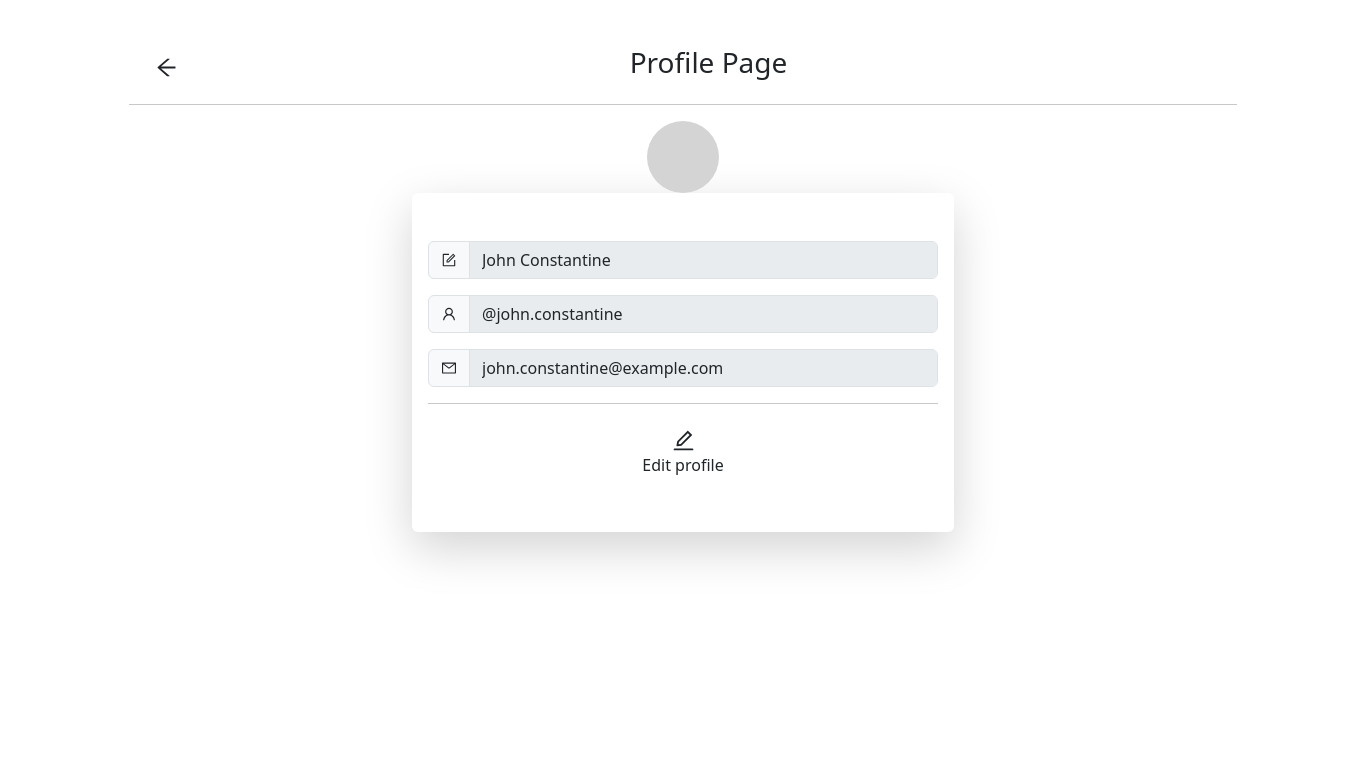
Test: Profile Page › test if is not possible to leave all fields empty
Click the button with test id "edit-profile-button" at [683, 452], box x1=629 y1=420 x2=737 y2=484
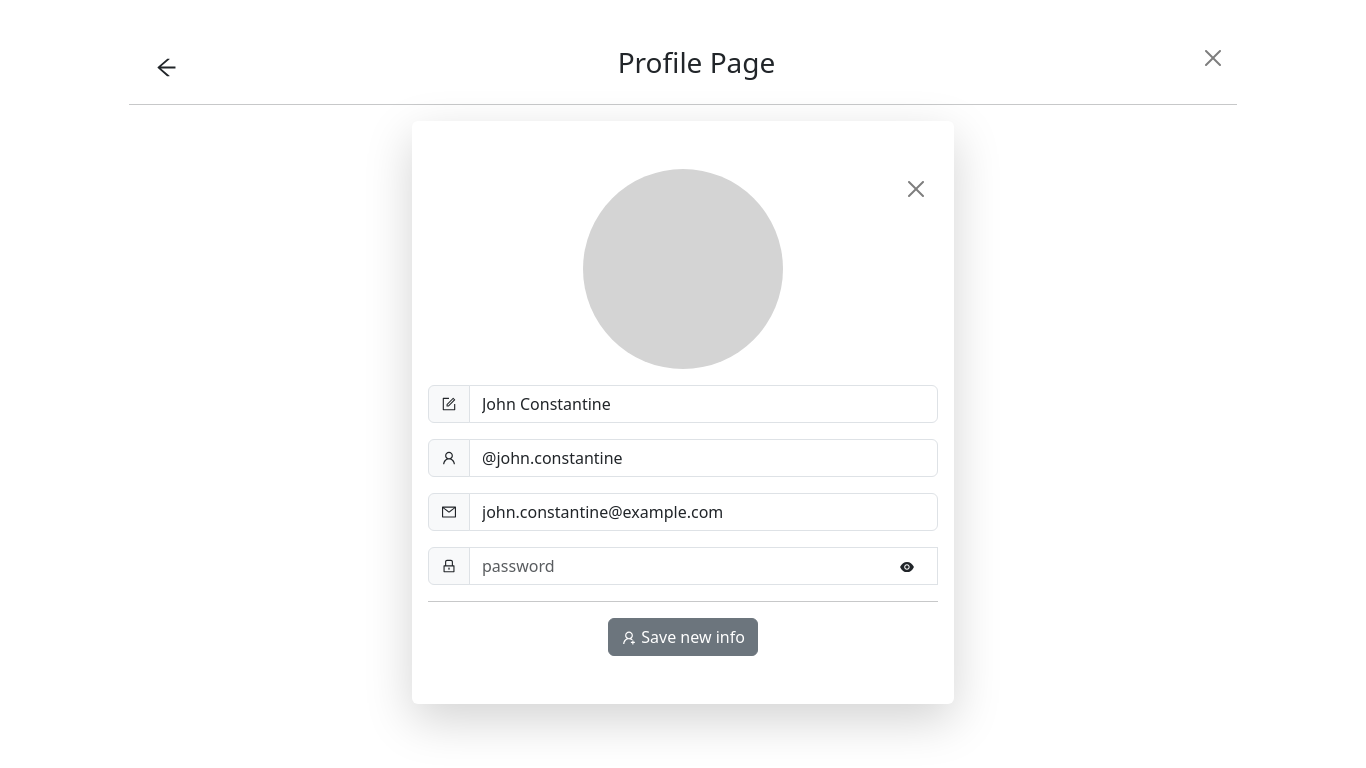
Clear the 1st field showing "John Constantine" at [704, 404], box x1=469 y1=385 x2=938 y2=423
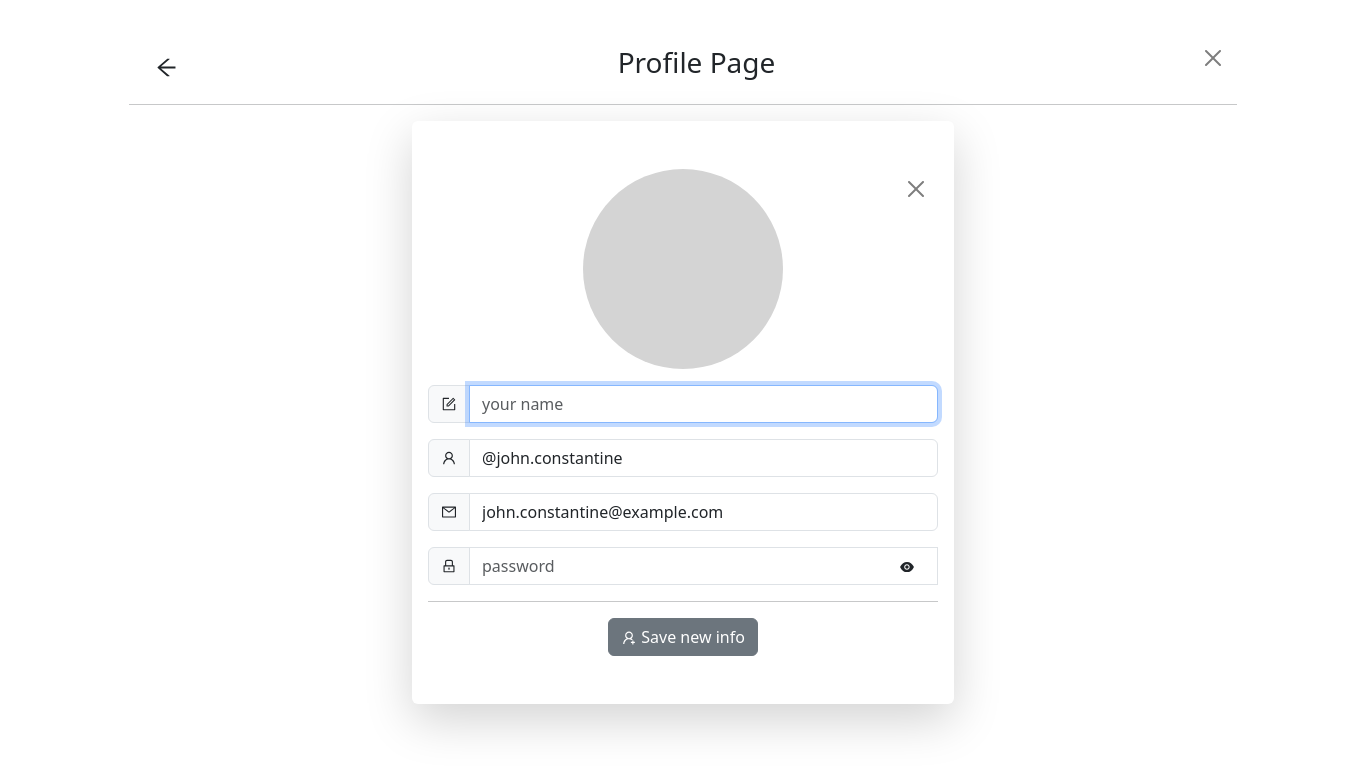
Clear the 2nd field showing "john.constantine@example.com" at [704, 512], box x1=469 y1=493 x2=938 y2=531
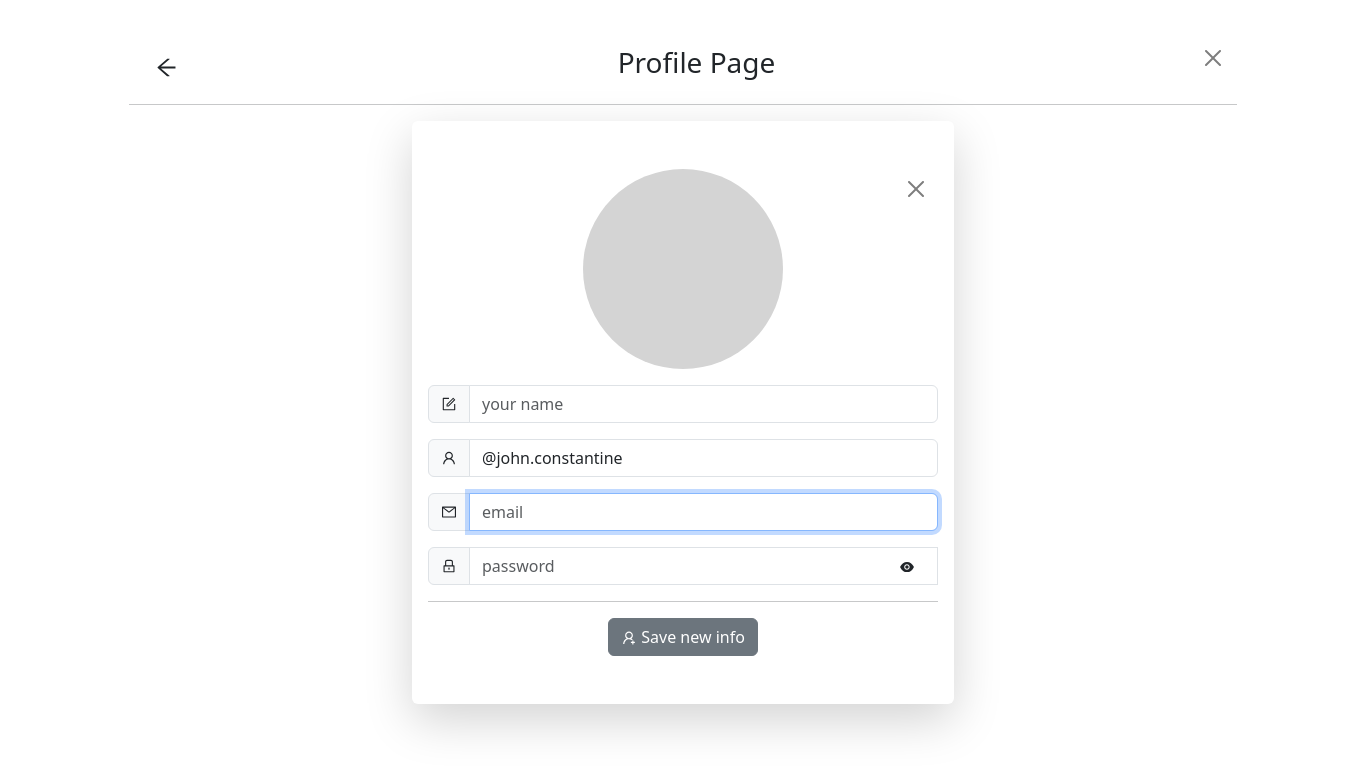
Clear the field showing "@john.constantine" at [704, 458], box x1=469 y1=439 x2=938 y2=477
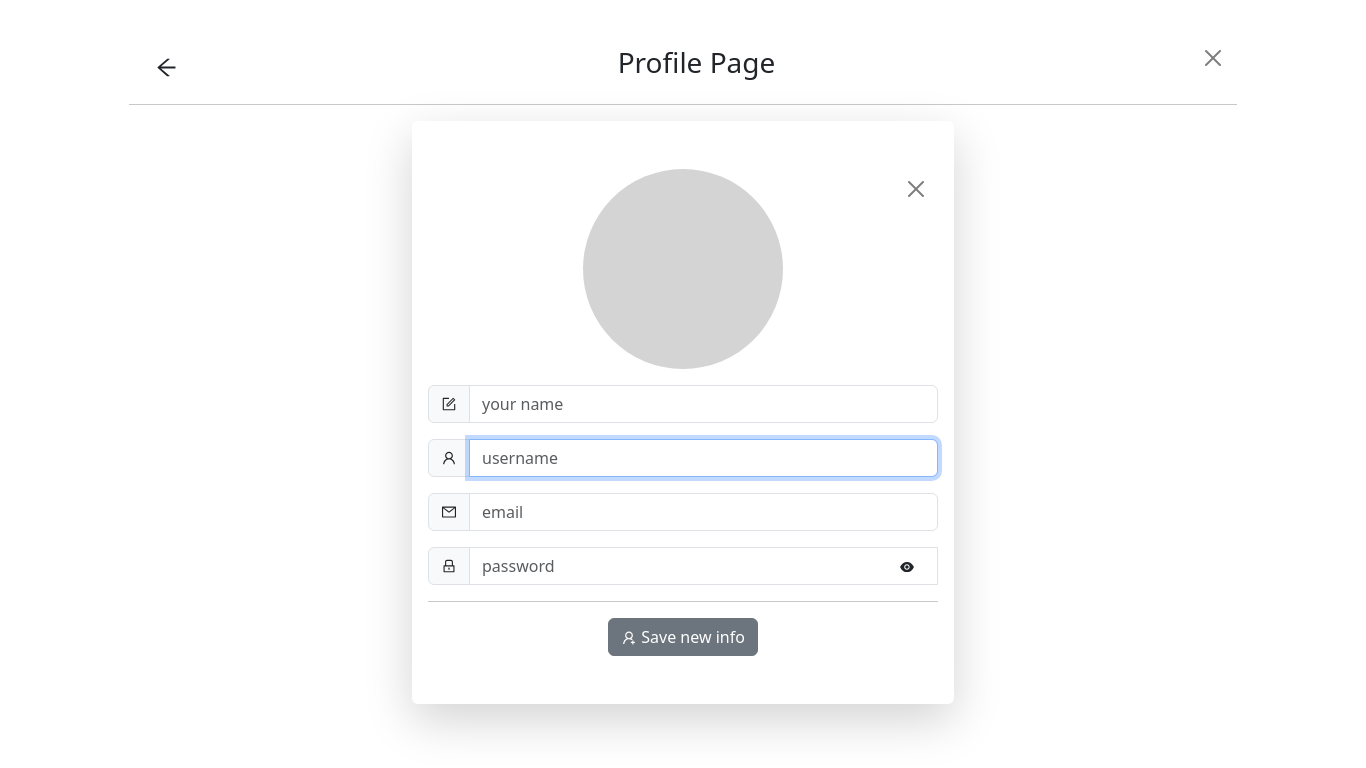
Clear the password field with placeholder "password" at [704, 566], box x1=469 y1=547 x2=938 y2=585
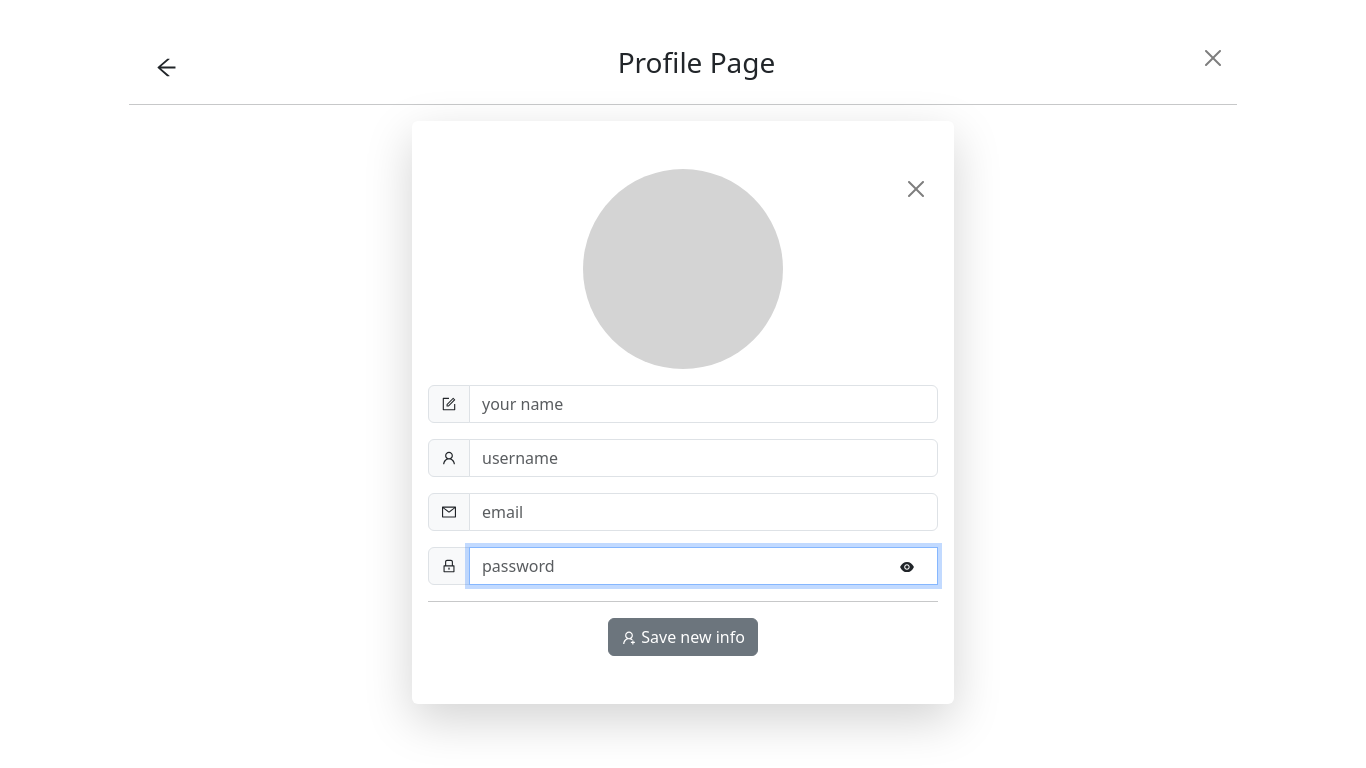
Click the button "Save new info" at [683, 637], box x1=608 y1=618 x2=758 y2=656
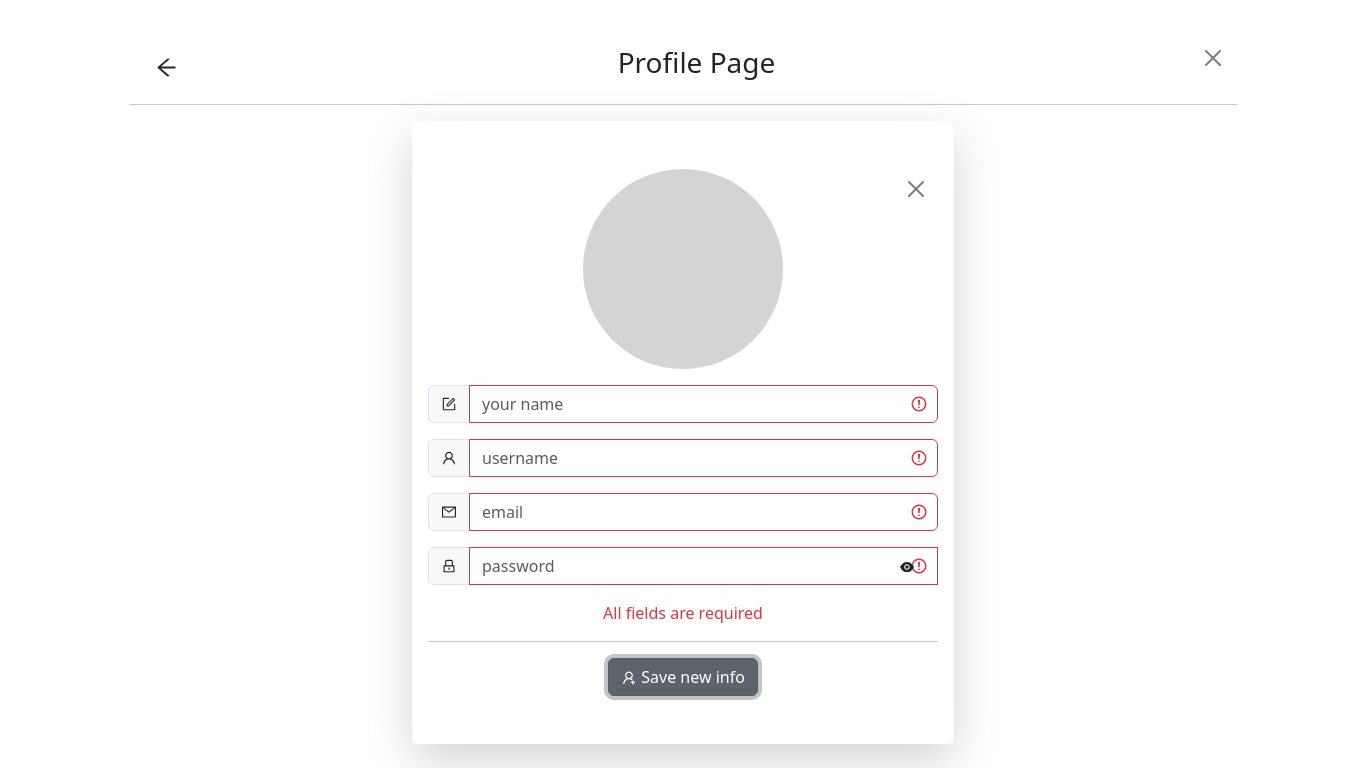
Check: the text "All fields are required" is shown, box x1=603 y1=602 x2=763 y2=624
